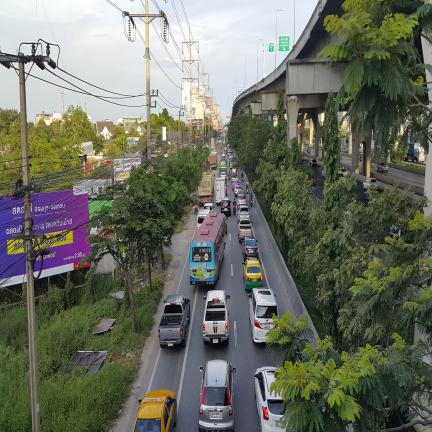bus: (190, 213, 226, 284), (219, 158, 227, 177)
car: (198, 360, 236, 432), (255, 367, 285, 432), (249, 288, 278, 343), (242, 237, 258, 260), (196, 209, 211, 231), (237, 204, 250, 223), (237, 190, 247, 210), (221, 197, 231, 216), (232, 173, 240, 191), (234, 184, 242, 197), (203, 203, 214, 212), (232, 168, 238, 179), (224, 215, 227, 235), (220, 172, 226, 180), (241, 221, 241, 222)
motorbike: (249, 195, 253, 207), (233, 201, 236, 215), (195, 204, 198, 214), (228, 172, 231, 179), (246, 186, 249, 193), (241, 173, 243, 181)
pickup: (159, 294, 190, 347), (203, 290, 230, 344), (238, 215, 253, 242), (237, 205, 250, 223)
taxi: (134, 390, 176, 432), (243, 259, 263, 289)
truck: (198, 171, 214, 206), (215, 178, 226, 204), (208, 151, 218, 170)
